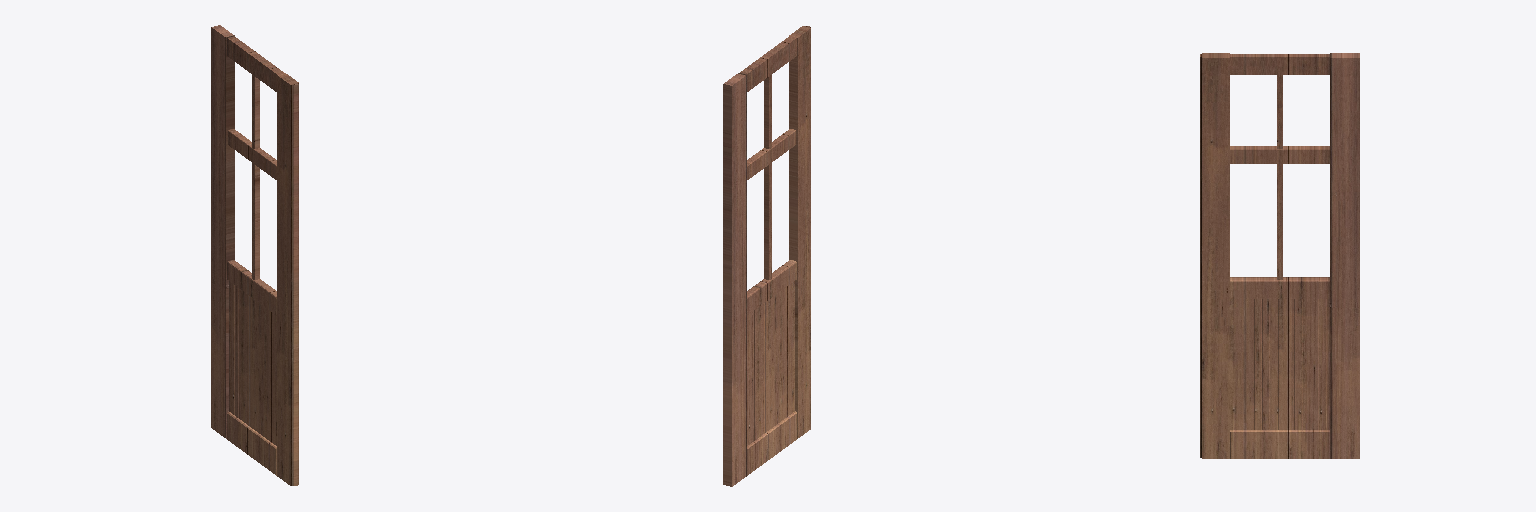
The picture shows the model from 3 angles: view 1: azimuth 30°, elevation 25°; view 2: azimuth 150°, elevation 25°; view 3: azimuth 270°, elevation 25°; orthographic projection.
Visible parts, largest first — view 1: group62 _Door_Double:pCube1, group62 _Door_Double:pCube2, group62 _Door_Double:pCube4, group62 _Door_Double:pCube3, group62 _Door_Double:pCube5, group62 _Door_Double:pCube6, group62 _Door_Double:pCube7; view 2: group62 _Door_Double:pCube2, group62 _Door_Double:pCube1, group62 _Door_Double:pCube4, group62 _Door_Double:pCube3, group62 _Door_Double:pCube5, group62 _Door_Double:pCube6, group62 _Door_Double:pCube7, group62 _Door_Double:pCube17; view 3: group62 _Door_Double:pCube2, group62 _Door_Double:pCube1, group62 _Door_Double:pCube4, group62 _Door_Double:pCube6, group62 _Door_Double:pCube5, group62 _Door_Double:pCube7, group62 _Door_Double:pCube16, group62 _Door_Double:pCube3, _Door_Double:pCube13 group62, group62 _Door_Double:pCube15, group62 _Door_Double:pCube9, group62 _Door_Double:pCube10 (+7 smaller).
Part boxes in pixels (x1,y1,x2,y2): group62 _Door_Double:pCube1: (277, 73, 298, 485); group62 _Door_Double:pCube2: (211, 25, 234, 438); group62 _Door_Double:pCube4: (227, 411, 276, 475); group62 _Door_Double:pCube3: (252, 75, 259, 279); group62 _Door_Double:pCube5: (227, 36, 283, 91); group62 _Door_Double:pCube6: (227, 260, 276, 315); group62 _Door_Double:pCube7: (228, 129, 276, 179); group62 _Door_Double:pCube2: (723, 73, 746, 486); group62 _Door_Double:pCube1: (789, 26, 810, 438); group62 _Door_Double:pCube4: (747, 411, 796, 475); group62 _Door_Double:pCube3: (764, 75, 771, 279); group62 _Door_Double:pCube5: (740, 36, 796, 91); group62 _Door_Double:pCube6: (747, 260, 796, 315); group62 _Door_Double:pCube7: (747, 129, 795, 179); group62 _Door_Double:pCube17: (754, 308, 758, 440); group62 _Door_Double:pCube2: (1330, 53, 1359, 458); group62 _Door_Double:pCube1: (1200, 53, 1229, 458); group62 _Door_Double:pCube4: (1230, 430, 1329, 458); group62 _Door_Double:pCube6: (1230, 277, 1329, 298); group62 _Door_Double:pCube5: (1230, 54, 1329, 74); group62 _Door_Double:pCube7: (1230, 146, 1329, 163); group62 _Door_Double:pCube16: (1294, 299, 1302, 429); group62 _Door_Double:pCube3: (1277, 75, 1282, 279); _Door_Double:pCube13 group62: (1270, 299, 1277, 429); group62 _Door_Double:pCube15: (1286, 299, 1293, 429); group62 _Door_Double:pCube9: (1238, 299, 1245, 429); group62 _Door_Double:pCube10: (1246, 299, 1253, 429).
Size of the model in its own units: 5 by 220 by 80.
1 materials, 1 textured.